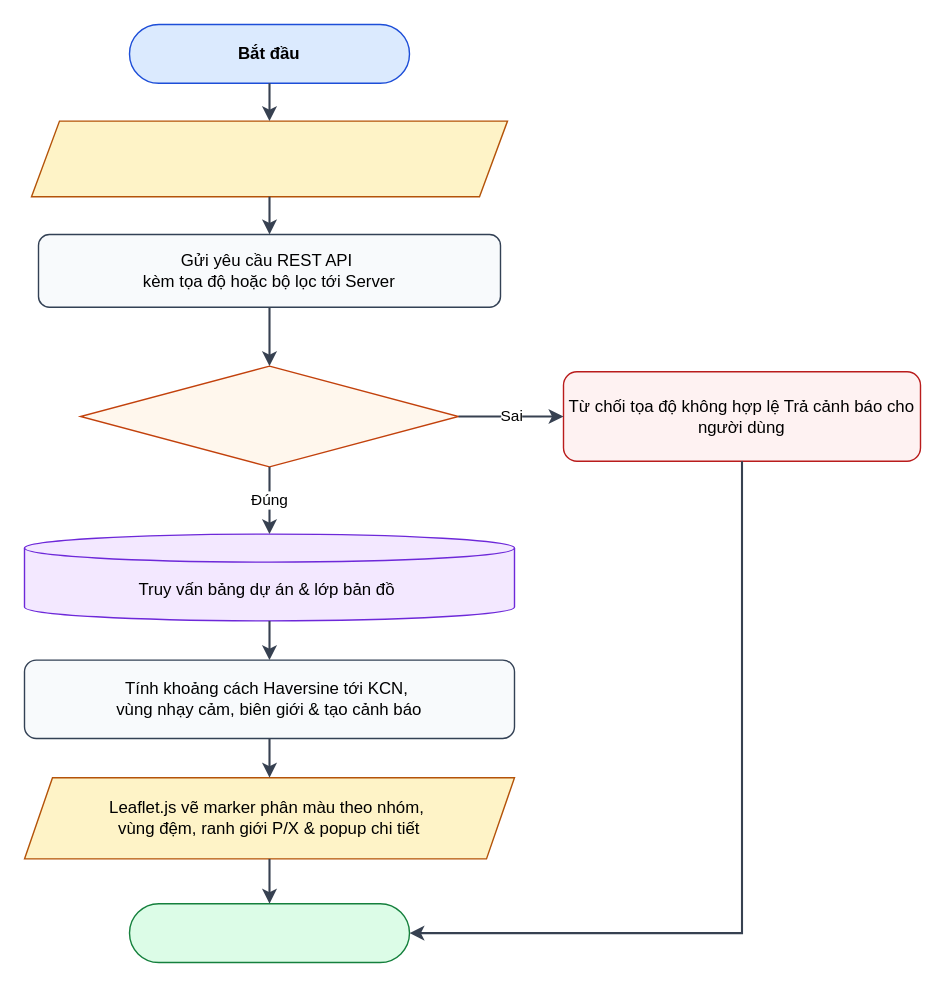
Image size: 945x987. Some labels were removed from this diagram. Here are the shapes that lost their labels. From the top down, the centre of each, then its label:
At (x=268, y=158): "Chọn vị trí, ranh giới P/X hoặc bộ lọc: T ỉnh/TP, Phường/Xã".
At (x=268, y=416): "Tọa độ WGS84 hợp lệ trong phạm vi VN?".
At (x=269, y=932): "Kết thúc".
